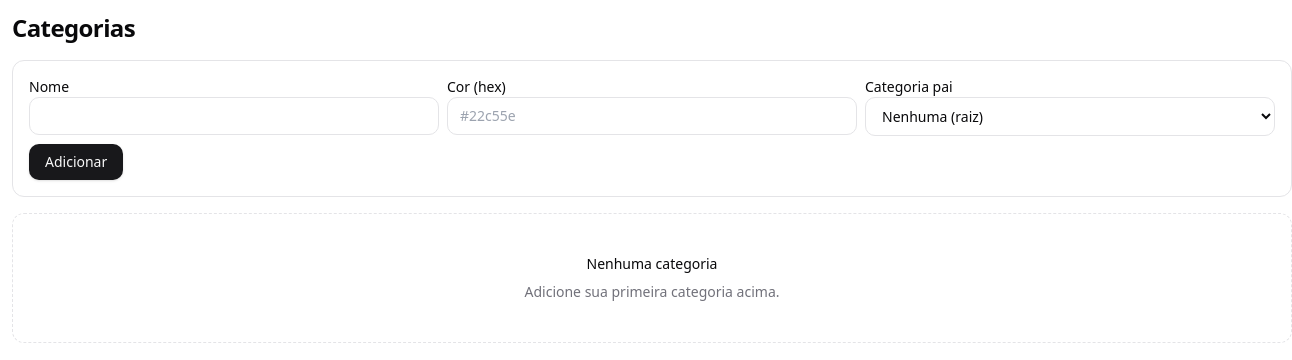
CategoriesManager - task 4.8 › criar categoria atualiza a lista sem reload (optimistic)
The image size is (1292, 360).
Expected: the text "Nenhuma categoria" is shown, [586,254,717,274]
Type "Lazer" into the field labelled "Nome" at {"x": 234, "y": 116}, box [29,97,439,135]
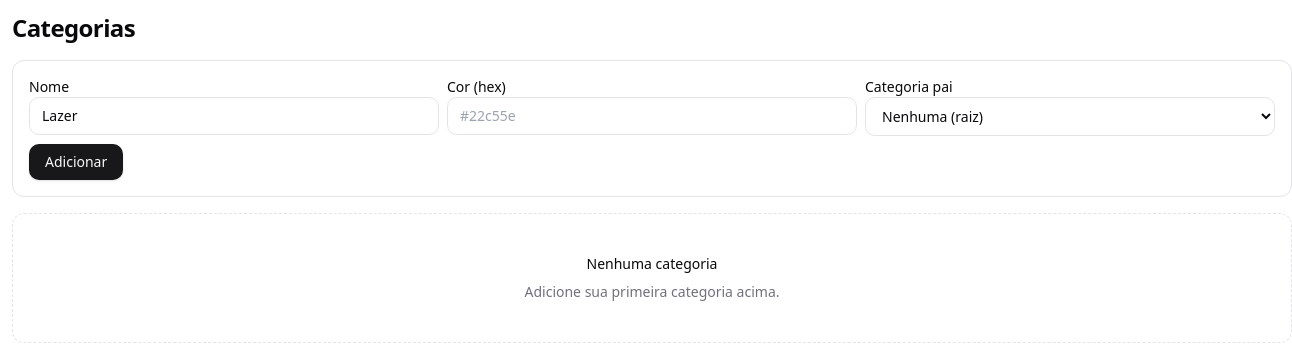
Submit the form named "Nova categoria", box [12,60,1291,197]
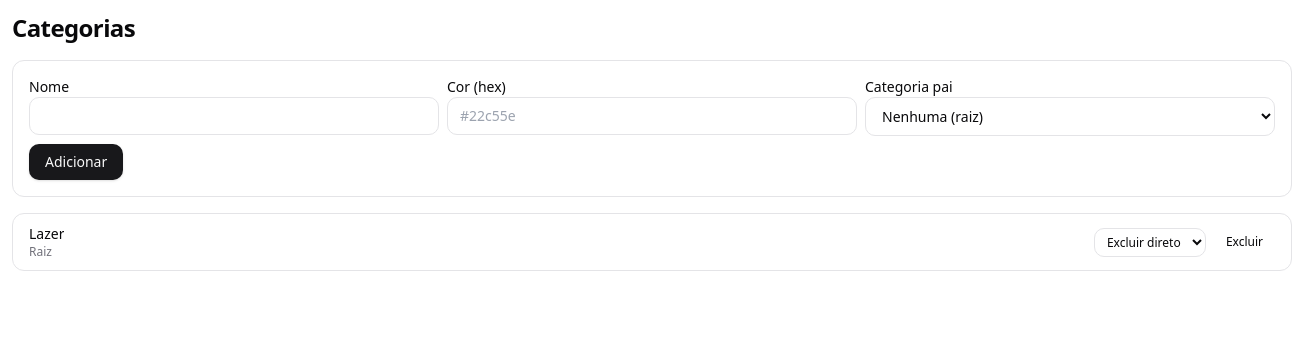
Expected: the text "Lazer" is shown, [29,224,64,244]
